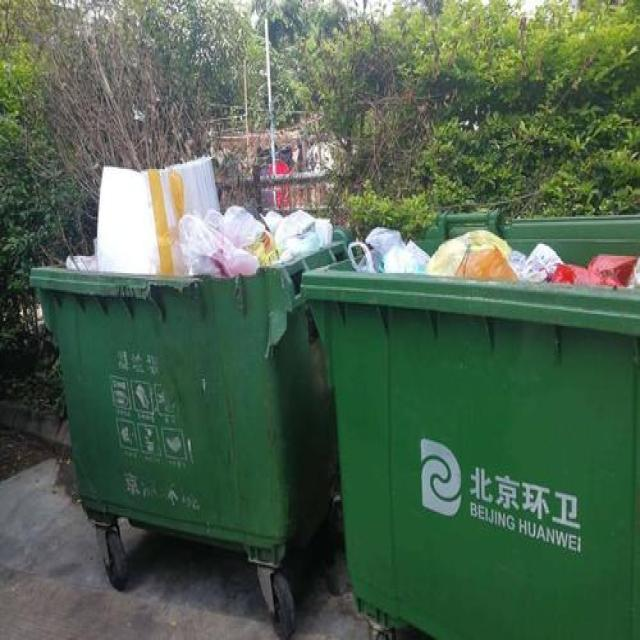overflow: (300, 208, 638, 638), (27, 156, 353, 562)
